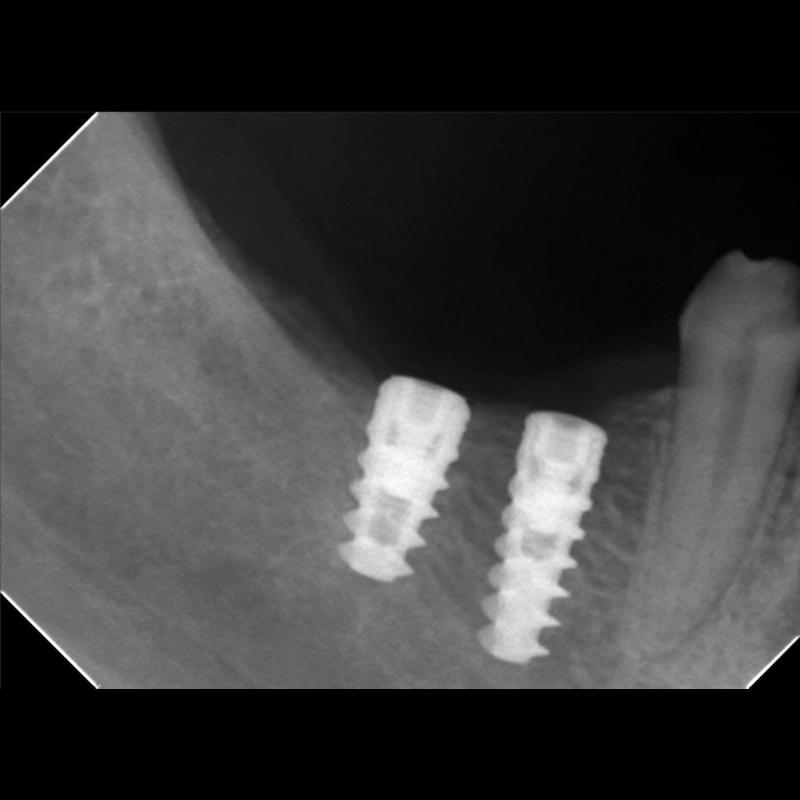ADIN: (461, 409, 609, 661), (311, 376, 473, 578)
